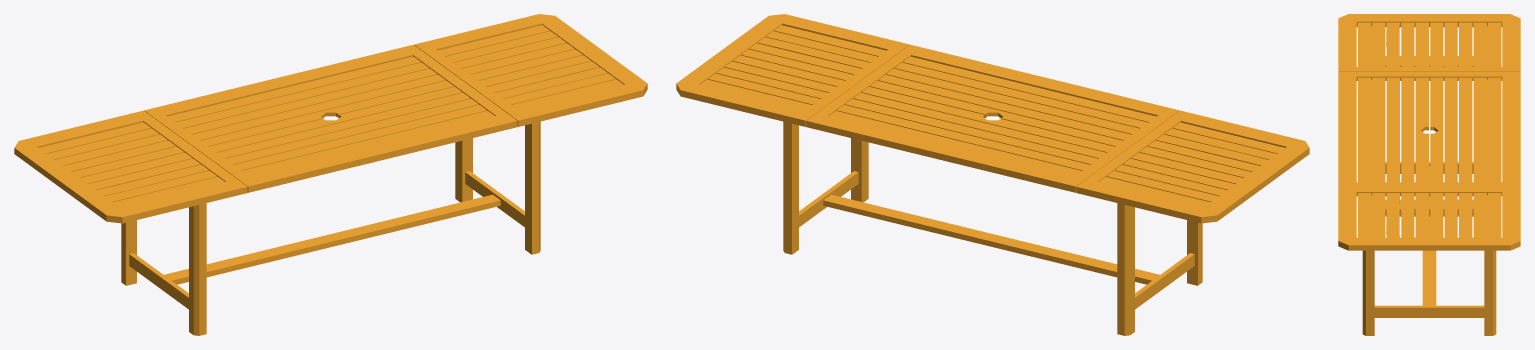
The model's file is SM_Table_Garden_Long.fbx.
3 renders of one model, left to right at view 1: azimuth 30°, elevation 25°; view 2: azimuth 150°, elevation 25°; view 3: azimuth 270°, elevation 25°, orthographic. The views are drawn at different scales.
Parts seen in each view (by area): view 1: table-garden-long; view 2: table-garden-long; view 3: table-garden-long.
Boxes of the visible parts, x1,y1,x2,y2 form: table-garden-long: [14, 14, 647, 335]; table-garden-long: [676, 14, 1309, 335]; table-garden-long: [1338, 14, 1520, 335].
Size of the model in its own units: 3 by 0.8 by 1.
